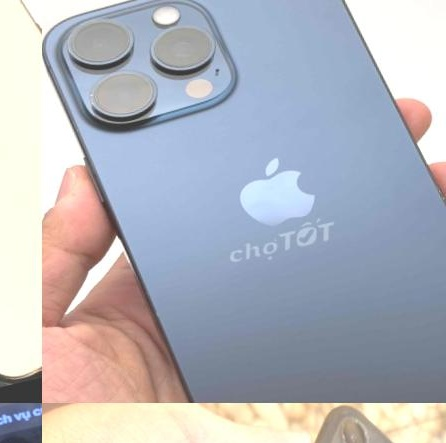scratch: (85, 87, 97, 105), (152, 309, 161, 317)
